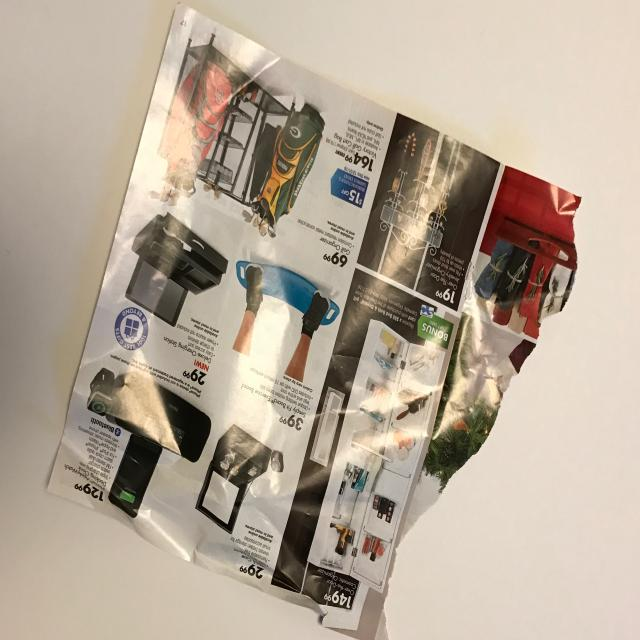paper: (31, 3, 592, 640)
